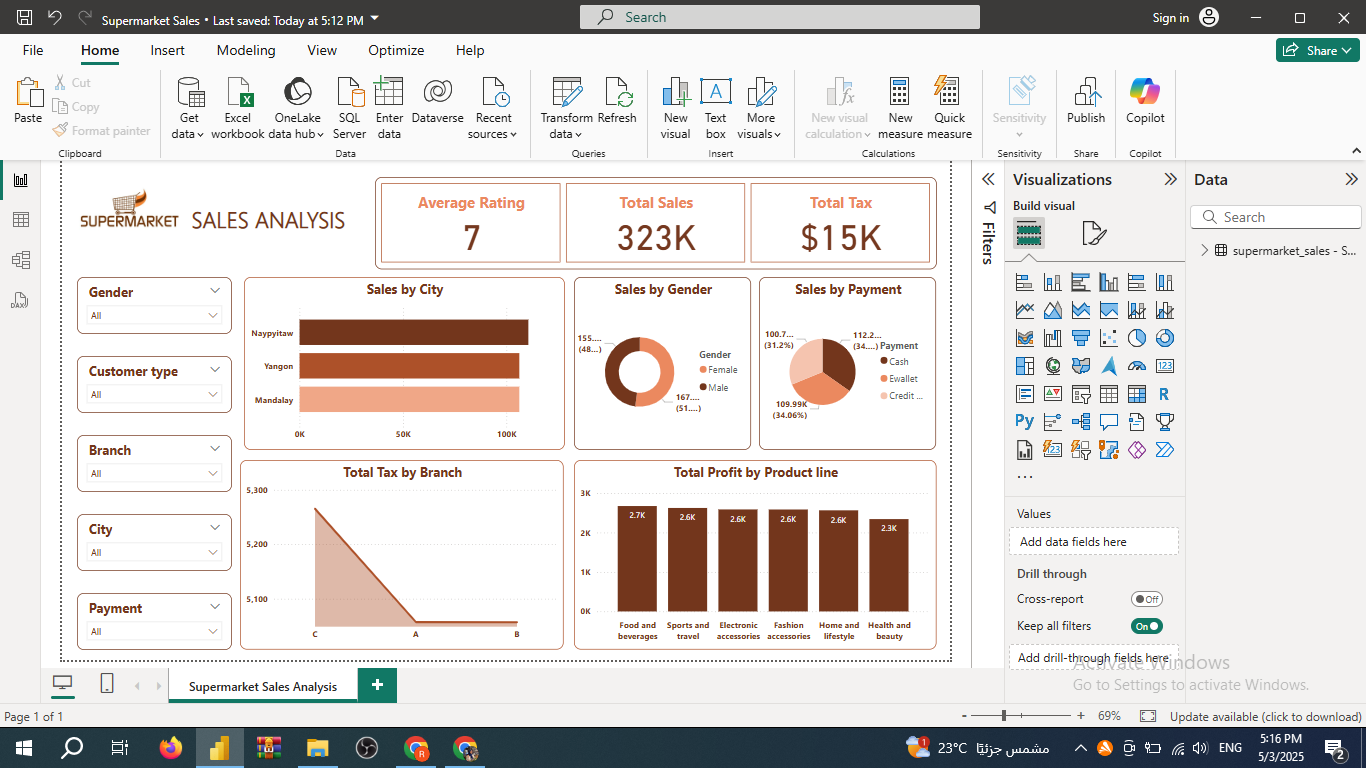

This screenshot's page, from the dashboard's own definition file:
{"tool":"powerbi","page":{"name":"Page 1","canvas":[1280,720],"ordinal":0},"visuals":[{"type":"image","box":[0,0,194.9,137.7],"z":0},{"type":"textbox","box":[181.4,57.1,396.4,55.4],"z":1000},{"type":"slicer","fields":{"Values":["supermarket_sales - Sheet1.City"]},"box":[21.3,509.9,222.6,81.8],"z":2000},{"type":"slicer","fields":{"Values":["supermarket_sales - Sheet1.Branch"]},"box":[21.3,396.1,222.6,81.8],"z":3000},{"type":"slicer","fields":{"Values":["supermarket_sales - Sheet1.Gender"]},"box":[21.3,168.6,222.6,81.8],"z":4000},{"type":"slicer","fields":{"Values":["supermarket_sales - Sheet1.Customer type"]},"box":[21.3,282.4,222.6,81.8],"z":5000},{"type":"slicer","fields":{"Values":["supermarket_sales - Sheet1.Payment"]},"box":[21.3,623.6,222.6,81.8],"z":6000},{"type":"cardVisual","fields":{"Data":["supermarket_sales - Sheet1.Rating","supermarket_sales - Sheet1.Total","supermarket_sales - Sheet1.gross income"]},"box":[450.1,24.6,808.6,132.6],"z":7000},{"type":"pieChart","title":"Sales by Payment","fields":{"Category":["supermarket_sales - Sheet1.Payment"],"Y":["supermarket_sales - Sheet1.Total"]},"box":[1003.4,168.6,255.3,248.8],"z":8000},{"type":"barChart","title":"Sales by City","fields":{"Category":["supermarket_sales - Sheet1.City"],"Y":["supermarket_sales - Sheet1.Total"]},"box":[261.9,168.6,461.6,248.8],"z":9000},{"type":"stackedAreaChart","title":"Total Tax by Branch","fields":{"Category":["supermarket_sales - Sheet1.Branch"],"Y":["supermarket_sales - Sheet1.Tax 5%"]},"box":[257,432.1,466.5,273.4],"z":10000},{"type":"donutChart","title":"Sales by Gender","fields":{"Y":["supermarket_sales - Sheet1.Total"],"Series":["supermarket_sales - Sheet1.Gender"]},"box":[736.6,168.6,255.3,248.8],"z":11000},{"type":"clusteredColumnChart","title":"Total Profit by Product line","fields":{"Y":["supermarket_sales - Sheet1.gross income"],"Category":["supermarket_sales - Sheet1.Product line"]},"box":[736.6,432.1,522.1,273.4],"z":12000}]}

Visuals, with their boxes on the page's 1280x720 design canvas (x1, y1, x2, y2). These are canvas units, not pixel positions in the 1366x768 screenshot, which may show the page scaled, cropped or inside an application window:
image: [left=0, top=0, right=195, bottom=138]
textbox: [left=181, top=57, right=578, bottom=112]
slicer - supermarket_sales - Sheet1.City: [left=21, top=510, right=244, bottom=592]
slicer - supermarket_sales - Sheet1.Branch: [left=21, top=396, right=244, bottom=478]
slicer - supermarket_sales - Sheet1.Gender: [left=21, top=169, right=244, bottom=250]
slicer - supermarket_sales - Sheet1.Customer type: [left=21, top=282, right=244, bottom=364]
slicer - supermarket_sales - Sheet1.Payment: [left=21, top=624, right=244, bottom=705]
cardVisual - supermarket_sales - Sheet1.Rating x supermarket_sales - Sheet1.Total: [left=450, top=25, right=1259, bottom=157]
"Sales by Payment" pieChart: [left=1003, top=169, right=1259, bottom=417]
"Sales by City" barChart: [left=262, top=169, right=724, bottom=417]
"Total Tax by Branch" stackedAreaChart: [left=257, top=432, right=724, bottom=706]
"Sales by Gender" donutChart: [left=737, top=169, right=992, bottom=417]
"Total Profit by Product line" clusteredColumnChart: [left=737, top=432, right=1259, bottom=706]
